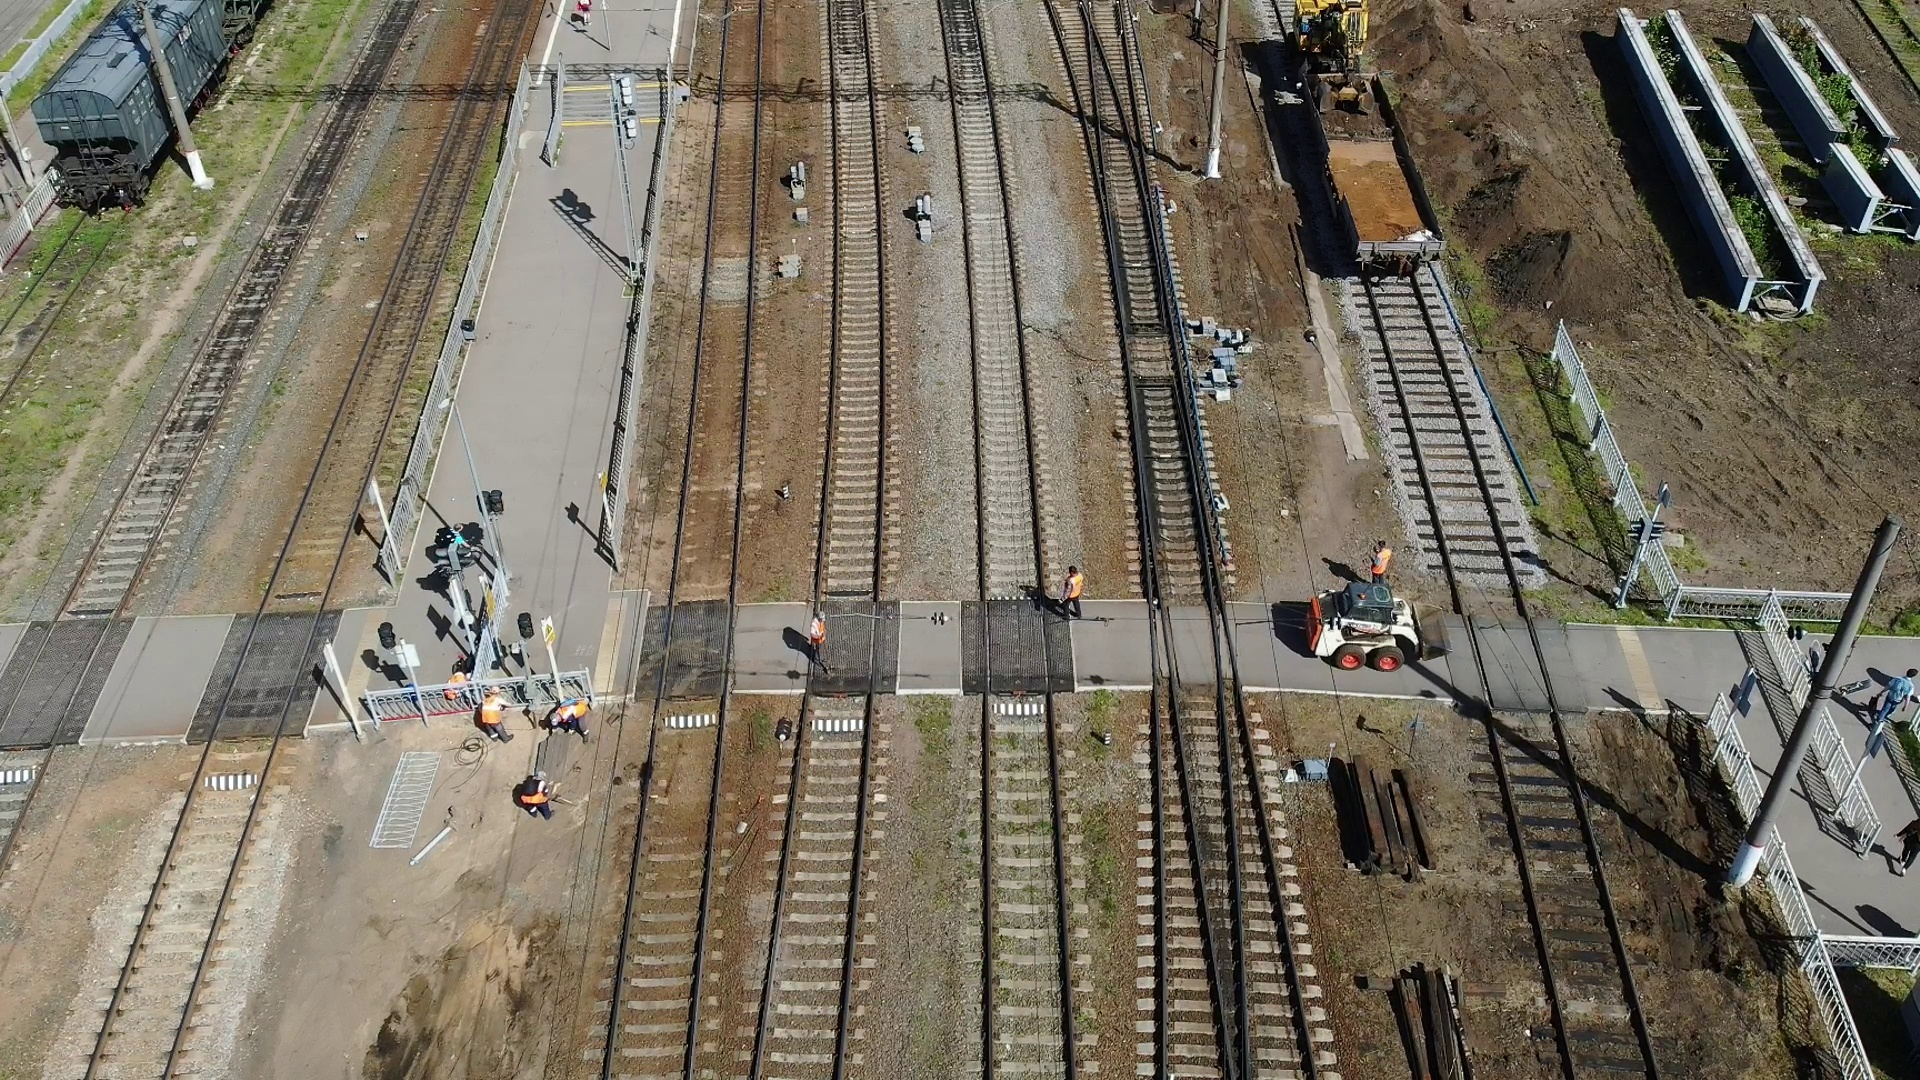kjtv: (1295, 1, 1364, 74)
